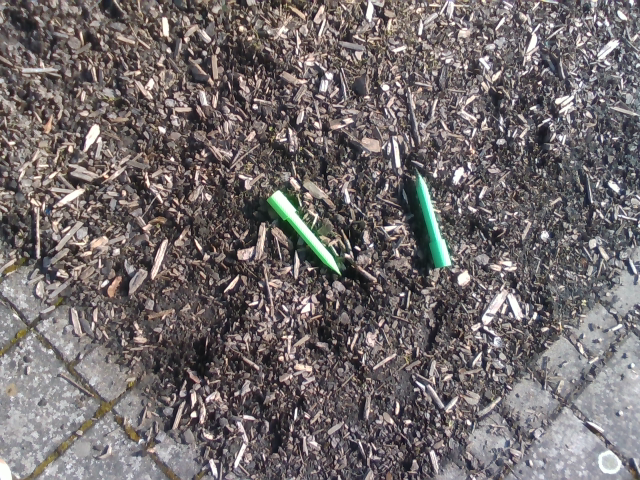Probe: (263, 184, 349, 283), (407, 157, 457, 275)
